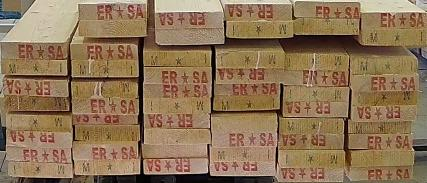Wood-Plank: (79, 0, 147, 20), (71, 58, 139, 78), (3, 76, 69, 96), (6, 112, 71, 132), (71, 79, 139, 98), (155, 27, 225, 45), (212, 114, 277, 133), (0, 40, 65, 59), (351, 74, 419, 92), (227, 20, 294, 38), (142, 49, 212, 66), (73, 142, 139, 160), (6, 130, 72, 148), (294, 0, 359, 18), (294, 17, 359, 35), (278, 149, 343, 167), (79, 19, 147, 36), (224, 3, 292, 20), (285, 53, 349, 71), (70, 42, 137, 59), (353, 55, 416, 73), (1, 59, 67, 76), (143, 158, 209, 175), (361, 29, 427, 46), (216, 51, 282, 68), (284, 84, 350, 101), (280, 117, 345, 134), (155, 12, 224, 28), (216, 68, 284, 84), (144, 68, 212, 84), (144, 98, 211, 114), (283, 101, 349, 117), (284, 70, 350, 86), (74, 160, 140, 176), (348, 134, 413, 150), (75, 126, 140, 142), (6, 148, 71, 164), (280, 134, 344, 150), (8, 162, 72, 178), (214, 96, 281, 111), (352, 106, 418, 121), (210, 162, 276, 177), (72, 99, 138, 114), (277, 166, 343, 181), (362, 11, 426, 26), (144, 84, 212, 98), (352, 92, 418, 106), (144, 130, 210, 144), (144, 114, 210, 128), (211, 147, 276, 161), (5, 98, 70, 112), (349, 120, 412, 134), (215, 83, 281, 96), (142, 146, 208, 159), (213, 133, 277, 146), (350, 151, 409, 165), (72, 115, 138, 126), (349, 169, 412, 180)
